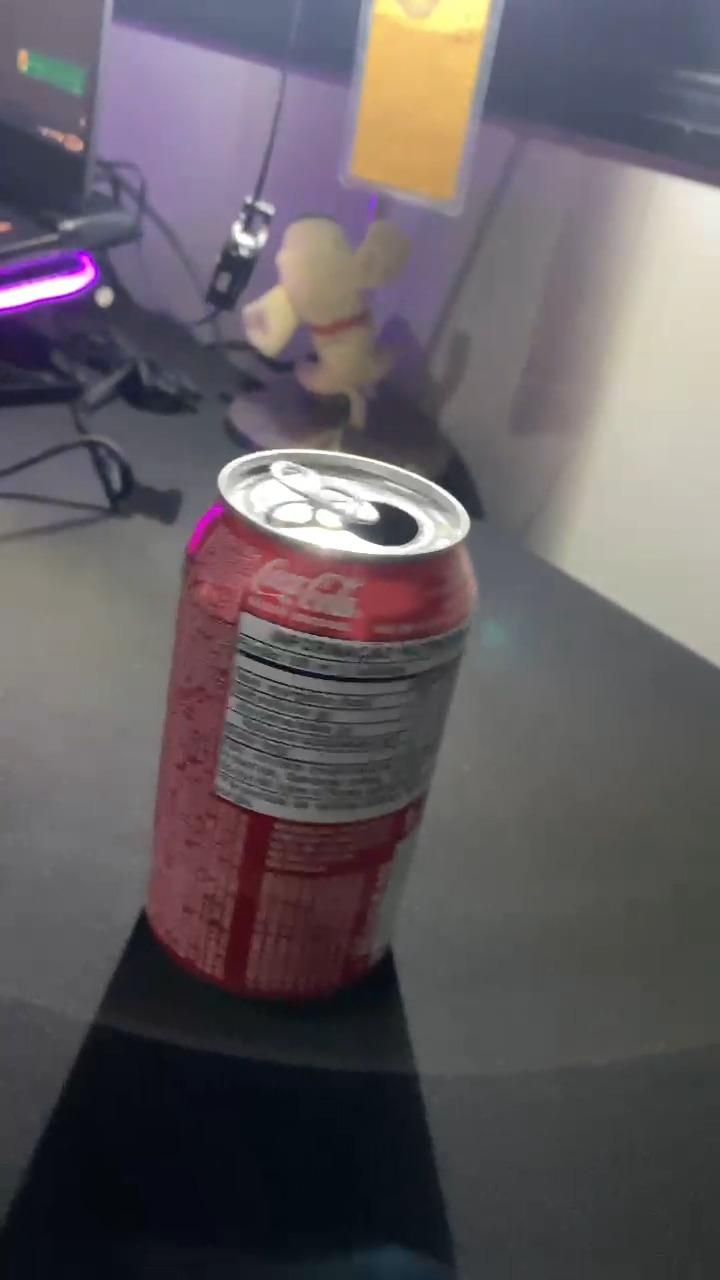coke: (145, 455, 484, 1002)
